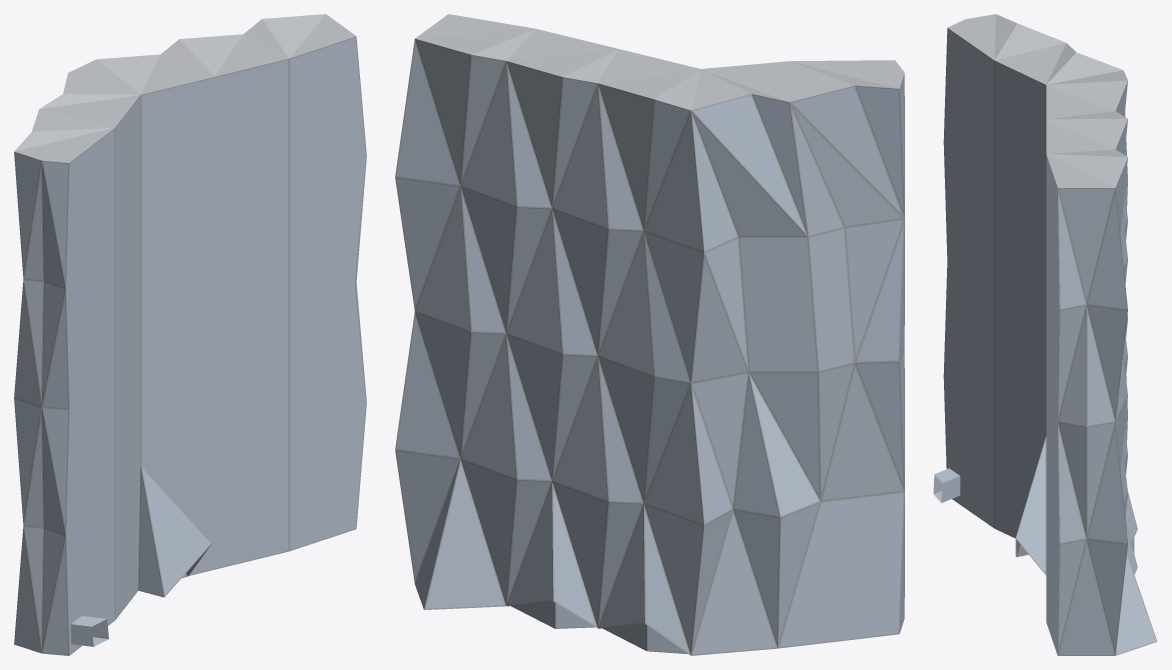
3 views of the same model, side by side, from view 1: azimuth 30°, elevation 25°; view 2: azimuth 150°, elevation 25°; view 3: azimuth 270°, elevation 25° (orthographic). The views are drawn at different scales.
Visible parts, largest first — view 1: 70030076431357692lod; view 2: 70030076431357692lod; view 3: 70030076431357692lod.
Boxes of the visible parts, left/top/right/bottom form: 70030076431357692lod: left=14, top=14, right=366, bottom=655; 70030076431357692lod: left=395, top=14, right=904, bottom=655; 70030076431357692lod: left=933, top=14, right=1157, bottom=655.
Size of the model in its own units: 120 by 148 by 63.45.
1 material, 1 textured.
